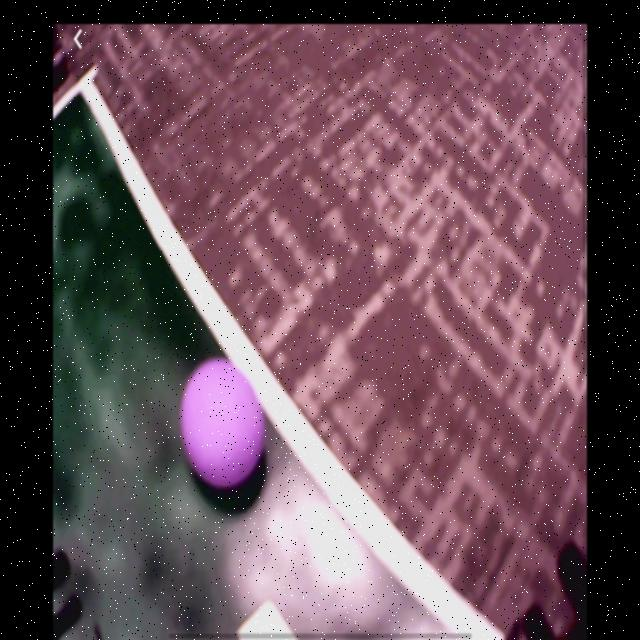ball: (183, 363, 264, 489)
